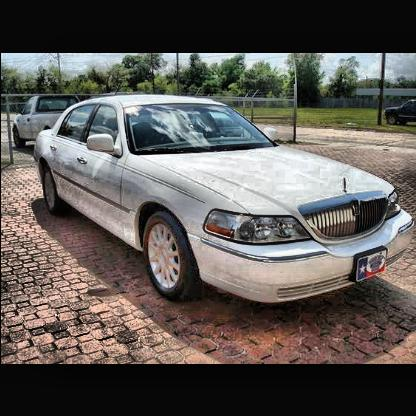Lincoln Town Car Sedan 2011: (31, 92, 416, 308)
